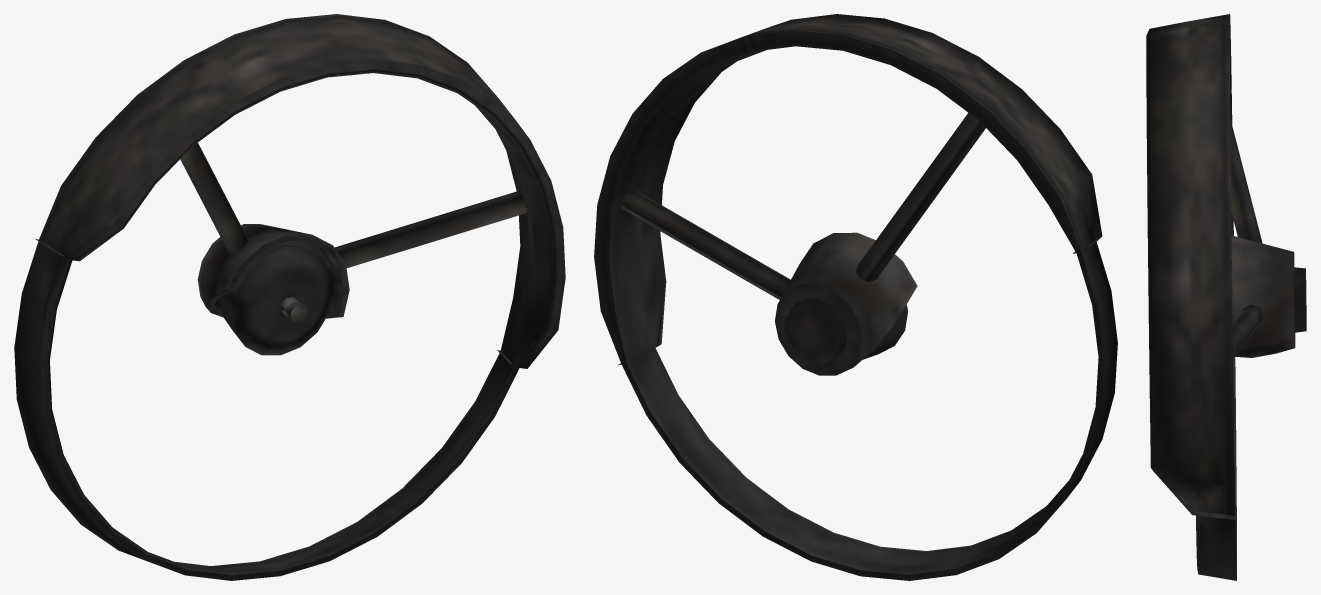
Rendered from veh_t6_drone_quad_rotor_dead_rotor_LOD0.obj.
The picture shows the model from 3 angles, left to right: view 1: azimuth 30°, elevation 25°; view 2: azimuth 150°, elevation 25°; view 3: azimuth 270°, elevation 25°; orthographic projection. The views are drawn at different scales.
Visible parts, largest first — view 1: mtl_t6_veh_drone_quad_rotor_body_dest; view 2: mtl_t6_veh_drone_quad_rotor_body_dest; view 3: mtl_t6_veh_drone_quad_rotor_body_dest.
Boxes of the visible parts, x1,y1,x2,y2 form: mtl_t6_veh_drone_quad_rotor_body_dest: (14, 14, 565, 580); mtl_t6_veh_drone_quad_rotor_body_dest: (594, 14, 1117, 580); mtl_t6_veh_drone_quad_rotor_body_dest: (1146, 14, 1306, 580).
Size of the model in its own units: 35.27 by 35.27 by 9.95.
